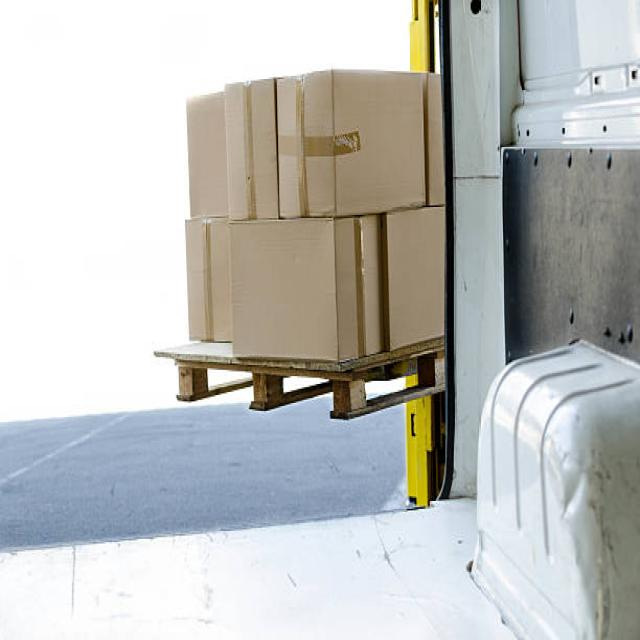Wooden-Pallets: (160, 342, 447, 419)
